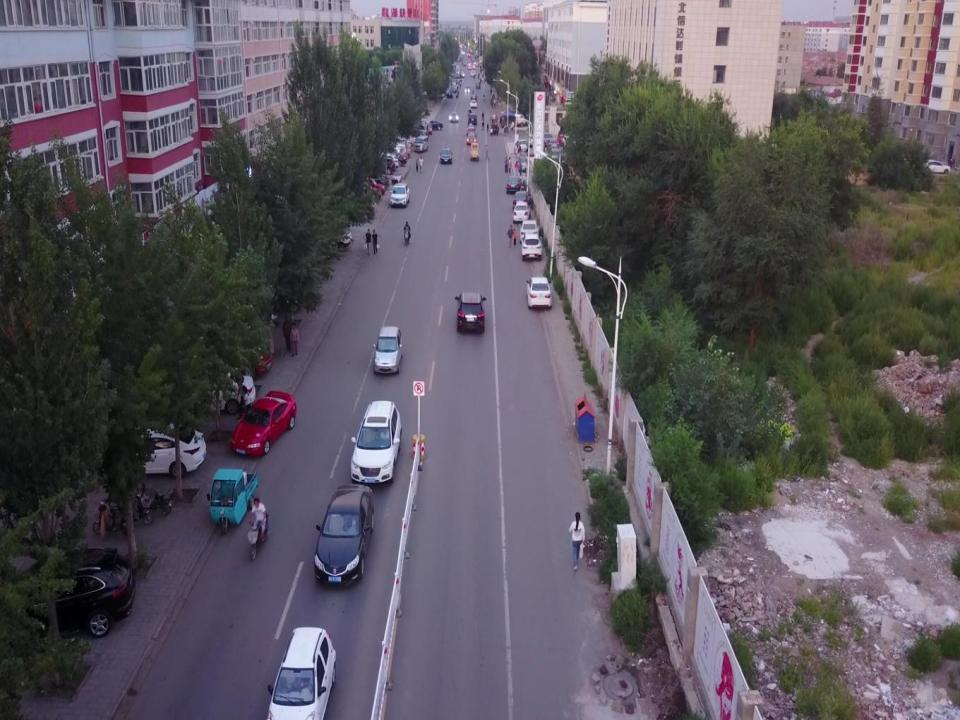car: (0, 547, 136, 654), (265, 627, 336, 720), (101, 421, 207, 480), (314, 484, 374, 586), (228, 390, 296, 458), (350, 400, 402, 485), (175, 366, 256, 415), (211, 340, 273, 381), (373, 326, 403, 374), (454, 291, 487, 333), (319, 221, 352, 252), (340, 195, 377, 220), (526, 276, 552, 308), (344, 182, 382, 200), (350, 177, 386, 196), (354, 173, 390, 191), (522, 234, 542, 262), (518, 219, 539, 244), (917, 159, 951, 174), (512, 190, 534, 213), (390, 183, 410, 208), (512, 202, 531, 223), (506, 175, 522, 194), (424, 119, 443, 131), (548, 148, 562, 164), (440, 148, 452, 164), (563, 134, 575, 150), (417, 124, 430, 138), (519, 154, 529, 172), (542, 132, 554, 147), (546, 140, 560, 152), (422, 122, 434, 134), (557, 134, 569, 146), (466, 132, 476, 145)
van: (414, 136, 428, 153)
